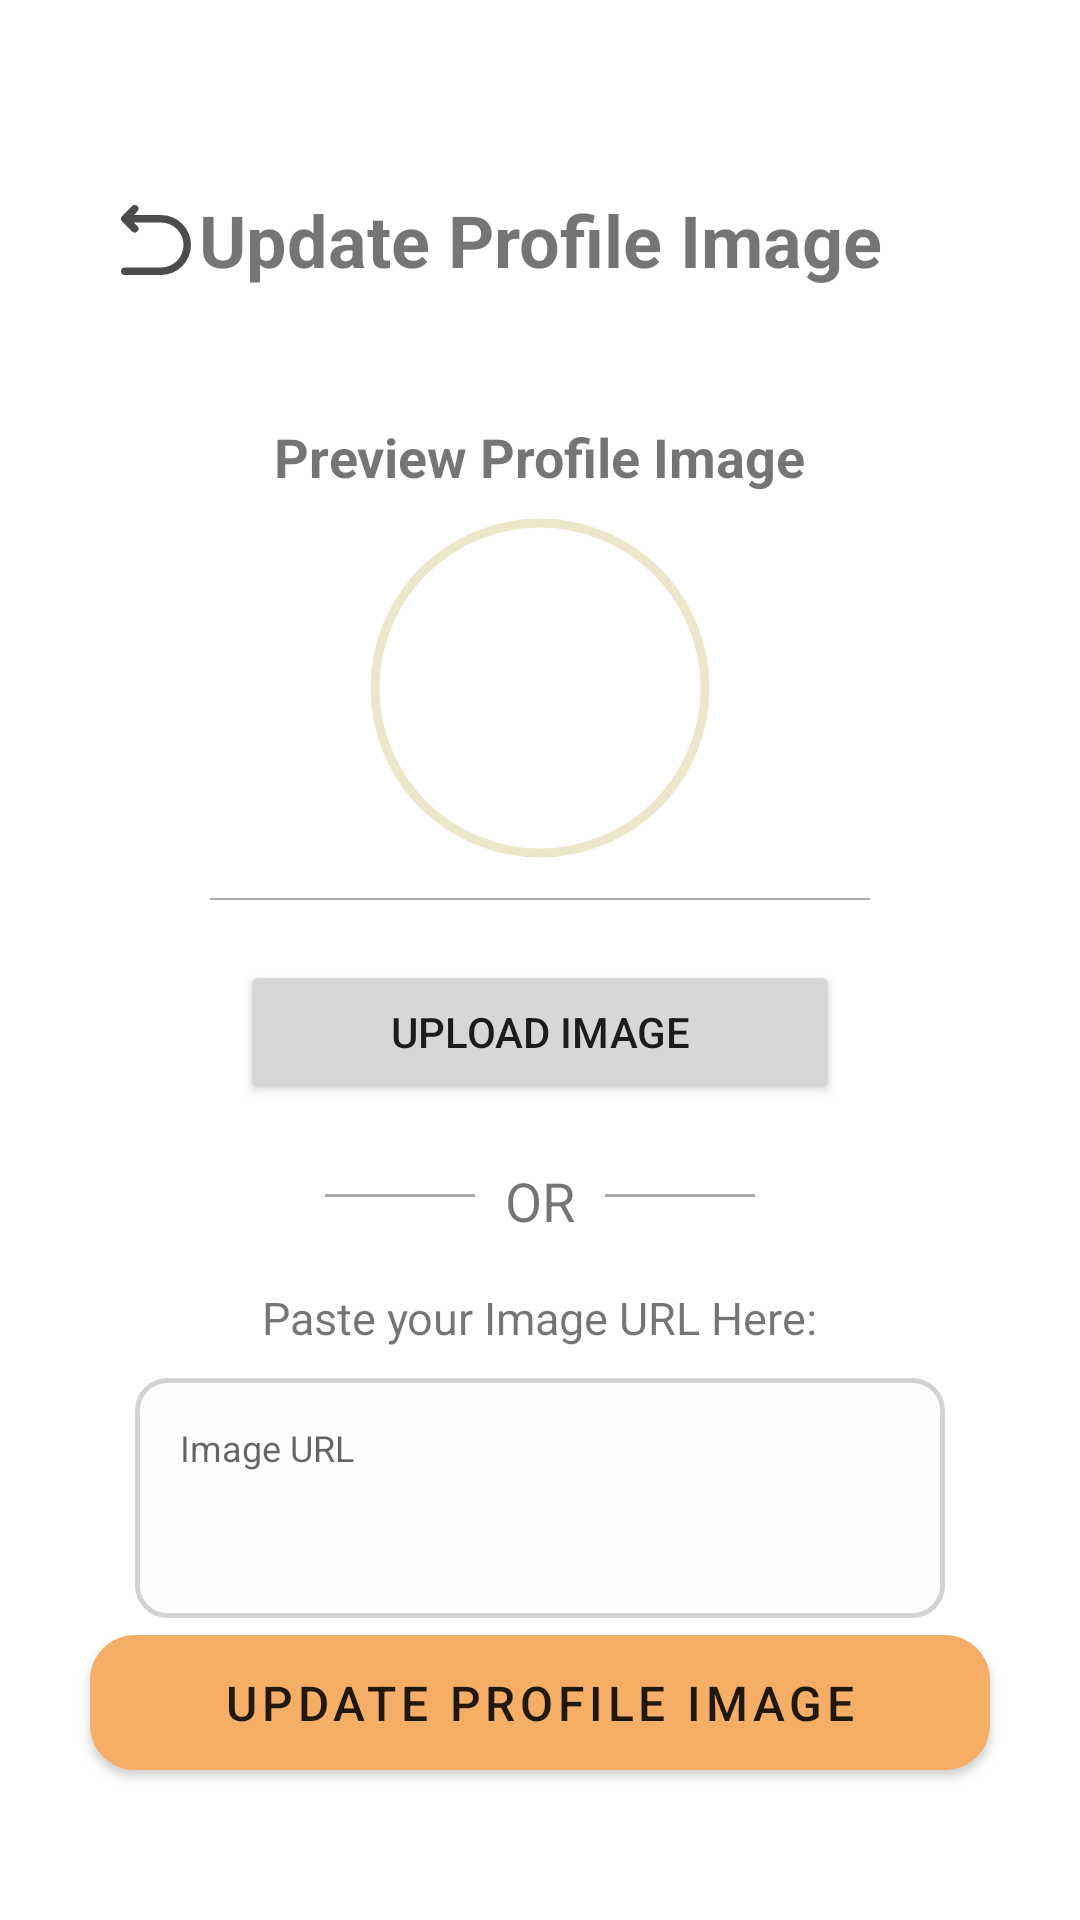

Where icons sit on this 1080px×1920px app screen, as (x1, y1, x2, y2):
back arrow: (120, 205, 191, 275)
